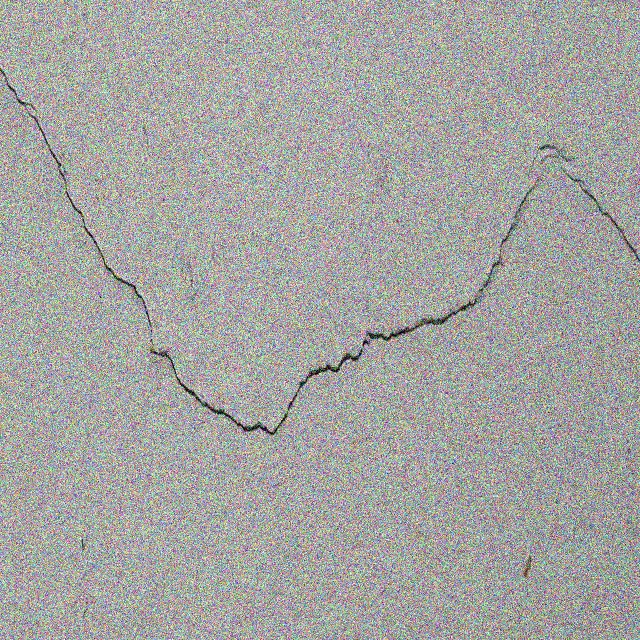SurfaceCrack: (0, 3, 639, 457)
